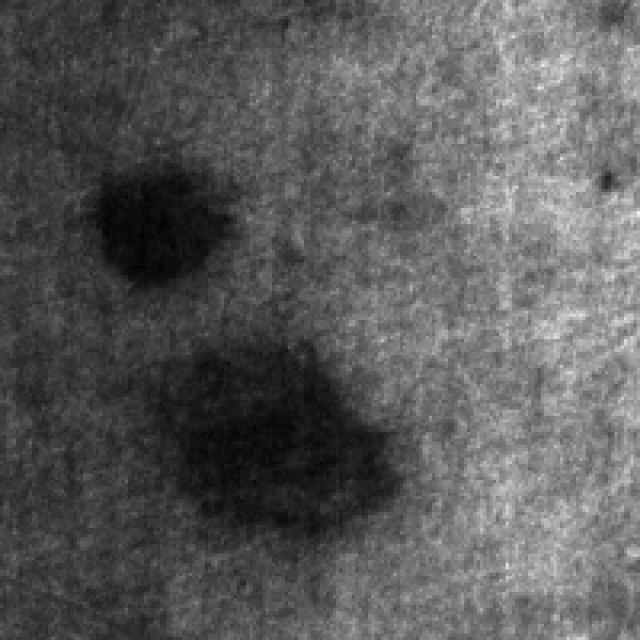patches: (134, 336, 406, 531), (74, 157, 236, 285)
